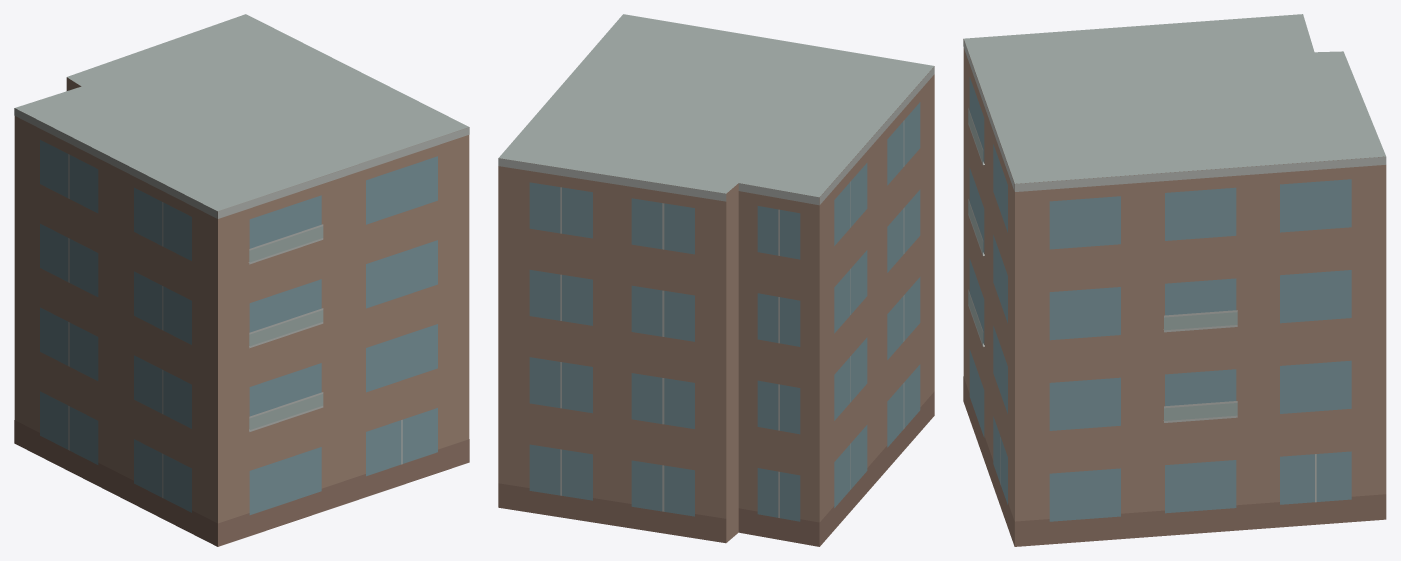
File: survey-upis-32934651.glb
3 renders of one model, left to right at view 1: azimuth 30°, elevation 25°; view 2: azimuth 150°, elevation 25°; view 3: azimuth 270°, elevation 25°, orthographic. The views are drawn at different scales.
Parts seen in each view (by area): view 1: survey-upis-32934651.tmp; view 2: survey-upis-32934651.tmp; view 3: survey-upis-32934651.tmp.
Boxes of the visible parts, x1,y1,x2,y2 form: survey-upis-32934651.tmp: (14,14,469,546); survey-upis-32934651.tmp: (498,14,934,546); survey-upis-32934651.tmp: (963,14,1386,546).
Bounding box in the file's own units: 10.75 × 10.7 × 11.3.
